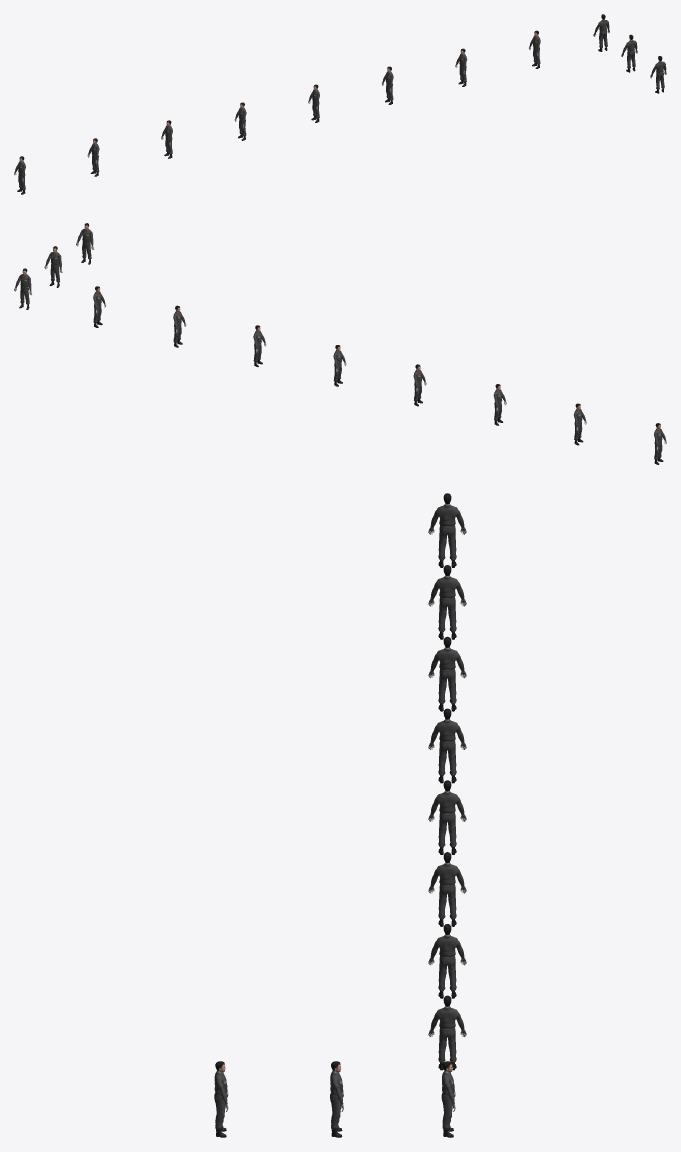
The model's file is ren.glb.
The picture shows the model from 3 angles, top to bottom: view 1: azimuth 30°, elevation 25°; view 2: azimuth 150°, elevation 25°; view 3: azimuth 270°, elevation 25°; orthographic projection. The views are drawn at different scales.
Visible parts, largest first — view 1: ren009, ren008, ren010, ren006, ren002, ren004, ren001, ren003; view 2: ren010, ren008, ren009; view 3: ren004, ren, ren002, ren005, ren003, ren001, ren006, ren007.
Part boxes in pixels (bbox=[...]): ren009: bbox=[621, 34, 637, 72]; ren008: bbox=[593, 14, 609, 51]; ren010: bbox=[650, 56, 666, 93]; ren006: bbox=[455, 48, 467, 86]; ren002: bbox=[161, 120, 172, 158]; ren004: bbox=[308, 84, 319, 122]; ren001: bbox=[87, 138, 99, 176]; ren003: bbox=[234, 102, 246, 140]; ren010: bbox=[76, 223, 93, 264]; ren008: bbox=[14, 268, 31, 309]; ren009: bbox=[44, 246, 62, 287]; ren004: bbox=[428, 780, 466, 854]; ren: bbox=[428, 493, 466, 567]; ren002: bbox=[428, 636, 466, 711]; ren005: bbox=[428, 852, 466, 926]; ren003: bbox=[428, 708, 466, 783]; ren001: bbox=[428, 565, 466, 639]; ren006: bbox=[428, 924, 466, 998]; ren007: bbox=[428, 995, 466, 1070].
Bounding box in the file's own units: 31.47 × 1.83 × 5.8.
2 materials, 2 textured.
